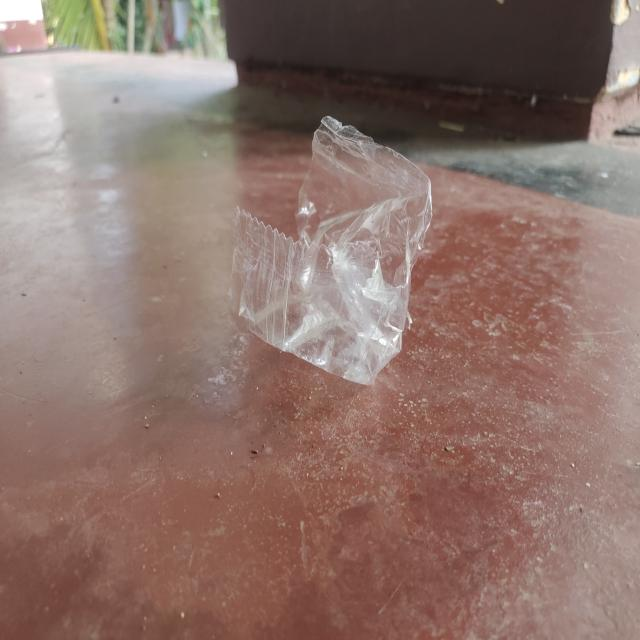plastic: (230, 110, 432, 382)
